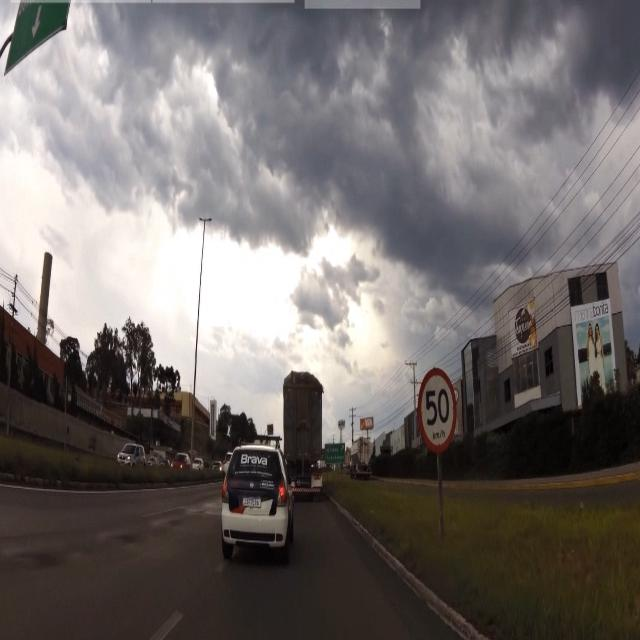R-19: (416, 365, 460, 456)
